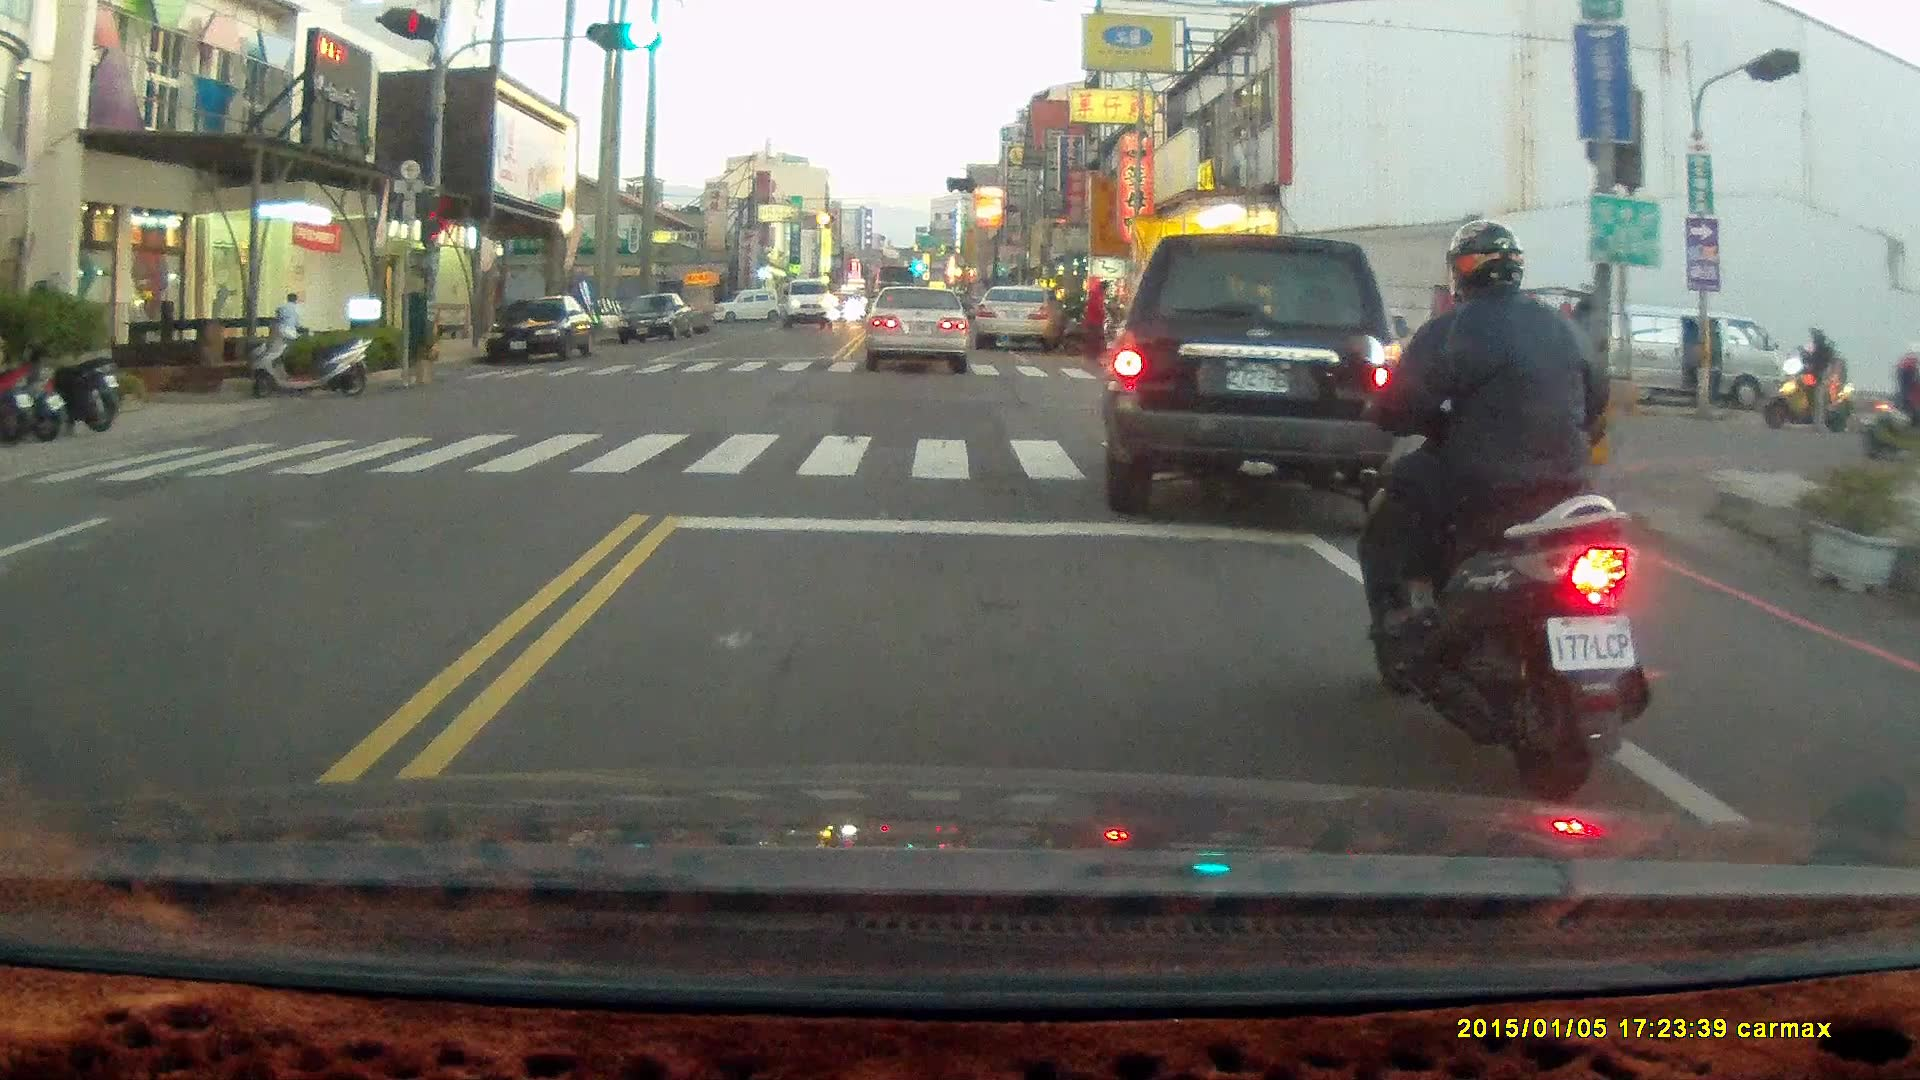pedestrian: (1079, 280, 1111, 374), (275, 290, 309, 355), (1699, 319, 1723, 401)
rider: (1341, 212, 1648, 798), (1762, 324, 1850, 433), (1858, 344, 1920, 465)
vehicle: (1097, 231, 1417, 521), (1570, 300, 1800, 414), (863, 288, 975, 375), (491, 296, 593, 368), (971, 281, 1059, 359), (617, 293, 699, 348), (781, 278, 836, 334)
